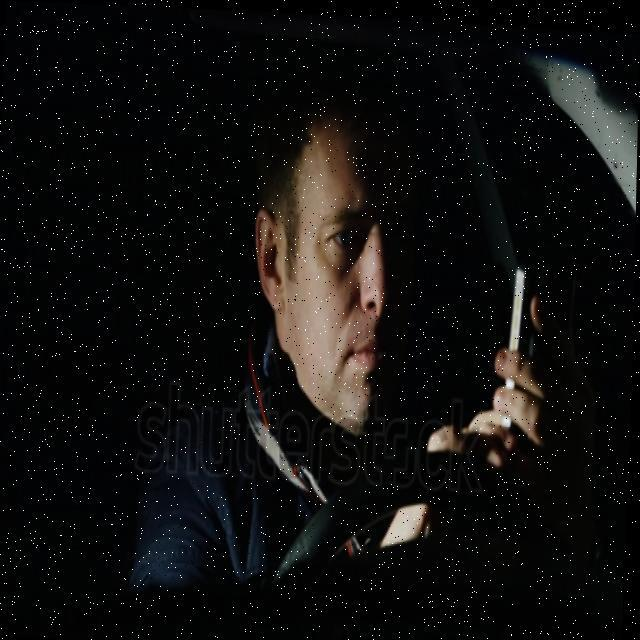PhoneCall: (504, 238, 579, 446)
